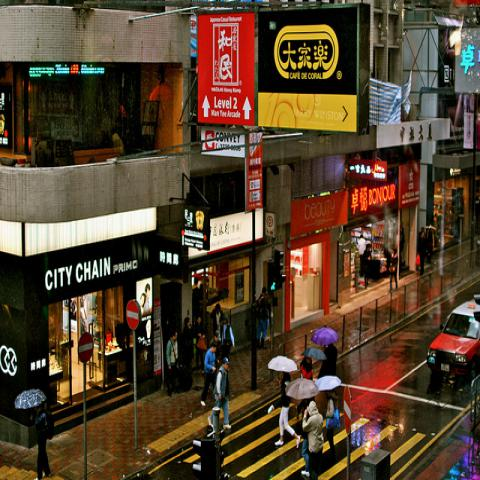car: (426, 300, 479, 380)
